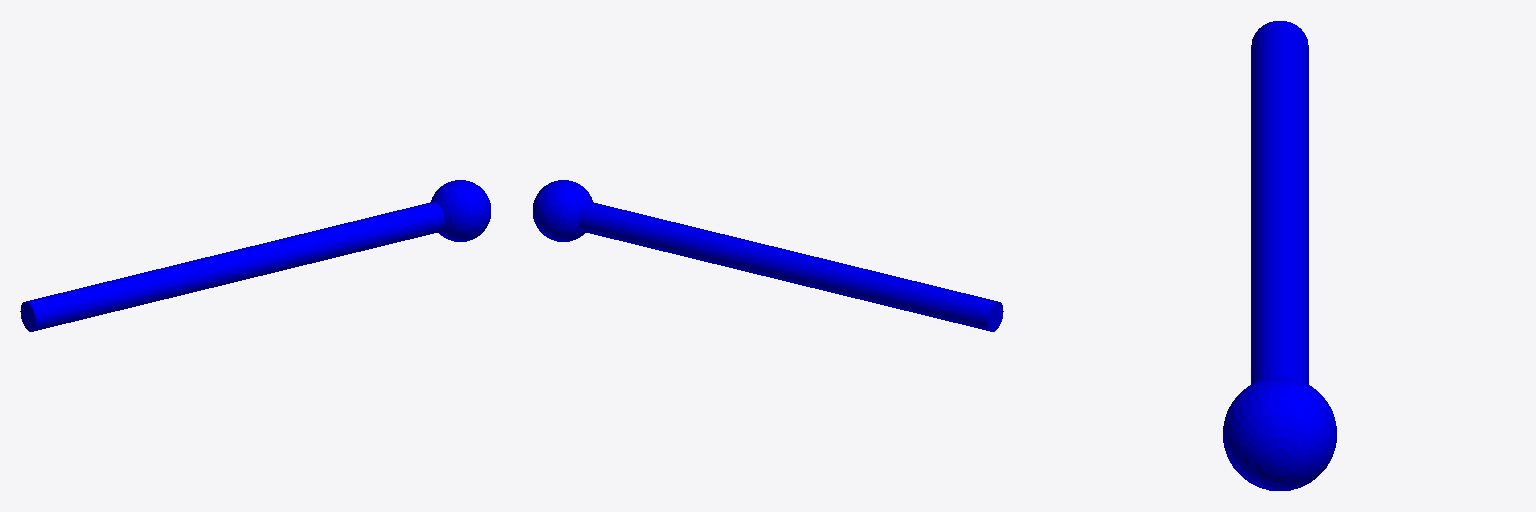
URDF robot description (marker_arrow):
<robot name="marker_arrow">

	<material name="color">
		<color rgba="0 0 1 1"/>
	</material>

	<link name="world"/>
	
	<link name="cylinder">
		<visual>
			<origin rpo="0 0 0" xyz="0 0 0.4"/>
			<geometry>
				<cylinder length="0.8" radius="0.025"/>
			</geometry>
			<material name="color"/>
		</visual>
	</link>
	
	<link name="sphere">
		<visual>
			<geometry>
				<sphere radius="0.05"/>
			</geometry>
			<material name="color"/>
		</visual>
	</link>
	
	<joint name="joint0" type="fixed">
		<origin rpy="0 1.57 0" xyz="0 0 0"/>
		<parent link="world" />
		<child link="cylinder" />
	</joint>
	
	<joint name="joint1" type="fixed">
		<origin rpy="0 0 0" xyz="0 0 0.8"/>
		<parent link="cylinder" />
		<child link="sphere" />
	</joint>
	
</robot>

--- What the picture shows (computed from the rendered views, not written in the file) ---
The picture shows the robot from 3 angles, left to right: view 1: azimuth 30°, elevation 25°; view 2: azimuth 150°, elevation 25°; view 3: azimuth 270°, elevation 25°; orthographic projection.
Model marker_arrow with 3 links and 2 joints (2 fixed), rooted at world, posed all joints at 0.
Visible links, largest first — view 1: cylinder, sphere; view 2: cylinder, sphere; view 3: cylinder, sphere.
Boxes of the visible links, <box> form: cylinder: <box>20,202,444,331</box>; sphere: <box>431,180,490,241</box>; cylinder: <box>579,202,1003,331</box>; sphere: <box>533,180,592,241</box>; cylinder: <box>1251,21,1308,383</box>; sphere: <box>1223,377,1336,490</box>.
Bounding box of the posed robot: 0.85 × 0.1 × 0.1 m (x, y, z).
Geometry: primitives only (box / cylinder / sphere), no mesh files.